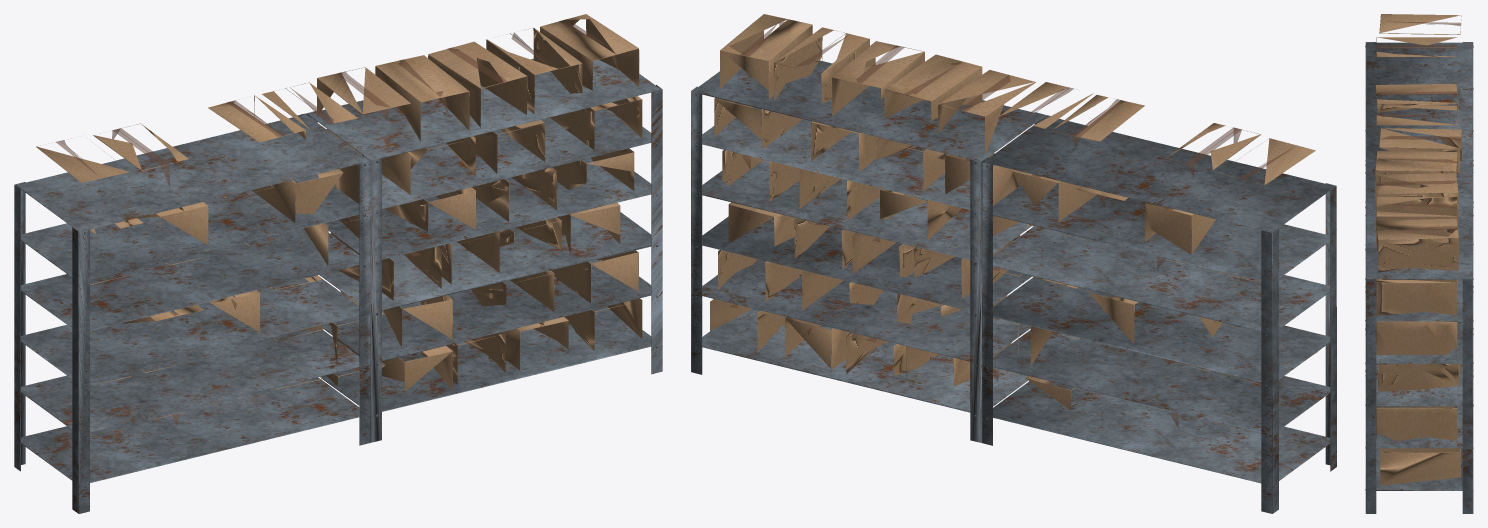
File: double_metal_shelving_unit.glb
3 views of the same model, side by side, from view 1: azimuth 30°, elevation 25°; view 2: azimuth 150°, elevation 25°; view 3: azimuth 270°, elevation 25° (orthographic). The views are drawn at different scales.
Parts seen in each view (by area): view 1: Material2 (×3); view 2: Material2 (×3); view 3: Material2 (×3), Material3.
Part boxes in pixels (x1,y1,x2,y2): Material2 (×3): [14, 14, 662, 513]; Material2 (×3): [691, 14, 1336, 513]; Material2 (×3): [1365, 14, 1473, 513]; Material3: [1377, 24, 1459, 229].
Size of the model in its own units: 156 by 82.16 by 30.28.
5 materials, 2 textured.
